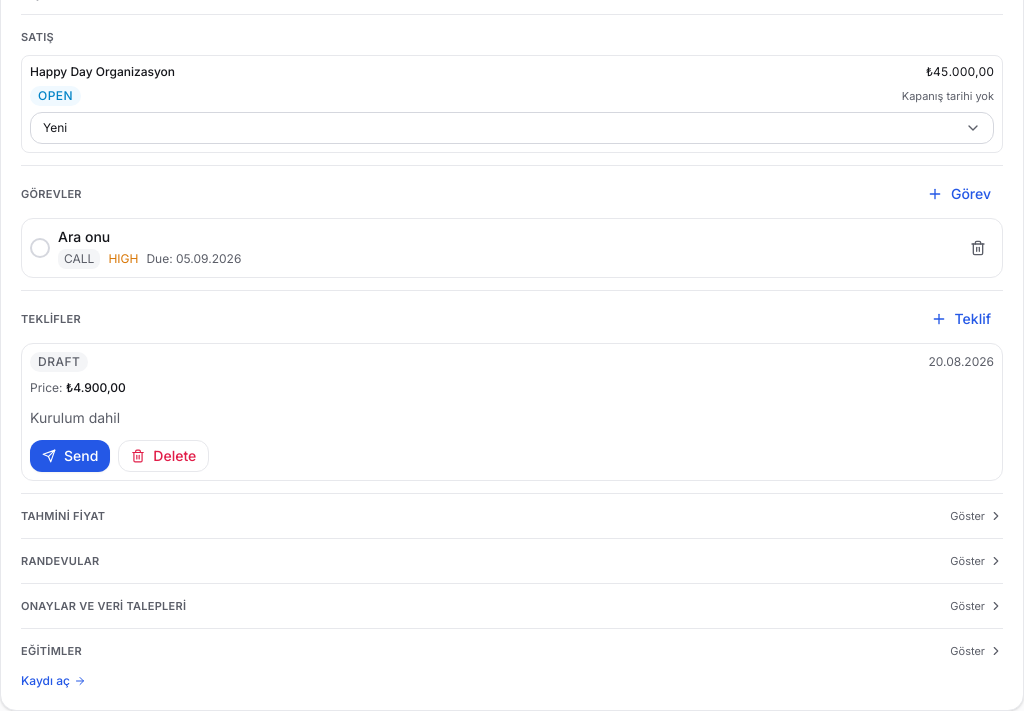
it: LeadContextPane — the consents and courses sections › reads THIS person’s consent record, and only once opened
This screenshot has width=1024, height=711.
(page scrolled)
Click the button "Onaylar ve veri talepleri Göster" at [104, 606], box [21,596,1003,616]
(page scrolled)
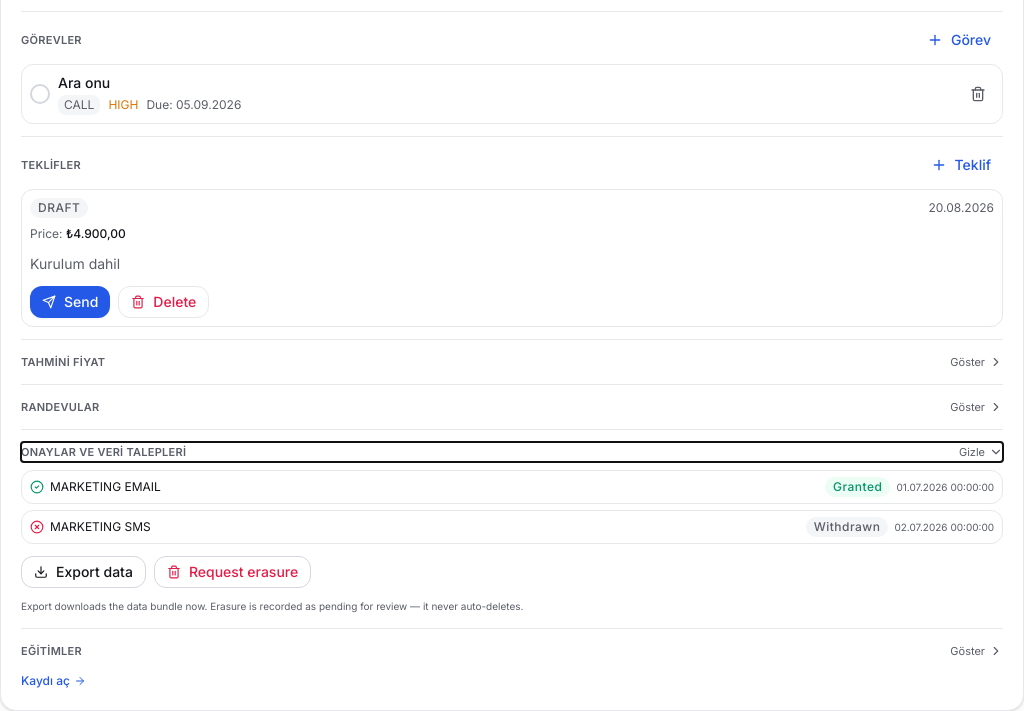
expect the element with test id "person-consents" is shown: met, box [21,470,1003,616]
